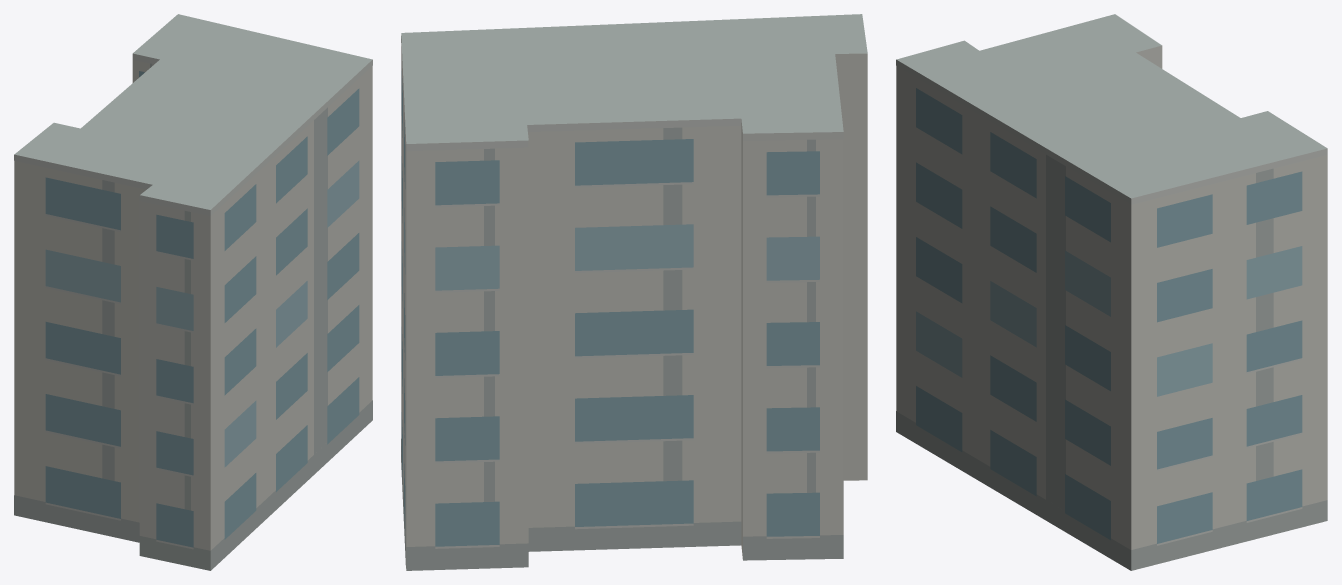
File: survey-upis-32883368.glb
The picture shows the model from 3 angles, left to right: view 1: azimuth 30°, elevation 25°; view 2: azimuth 150°, elevation 25°; view 3: azimuth 270°, elevation 25°; orthographic projection. The views are drawn at different scales.
Visible parts, largest first — view 1: survey-upis-32883368.tmp; view 2: survey-upis-32883368.tmp; view 3: survey-upis-32883368.tmp.
Boxes of the visible parts, x1,y1,x2,y2 form: survey-upis-32883368.tmp: (14,14,372,570); survey-upis-32883368.tmp: (401,14,867,570); survey-upis-32883368.tmp: (896,14,1327,570).
Bounding box in the file's own units: 15.31 × 14.4 × 15.13.
